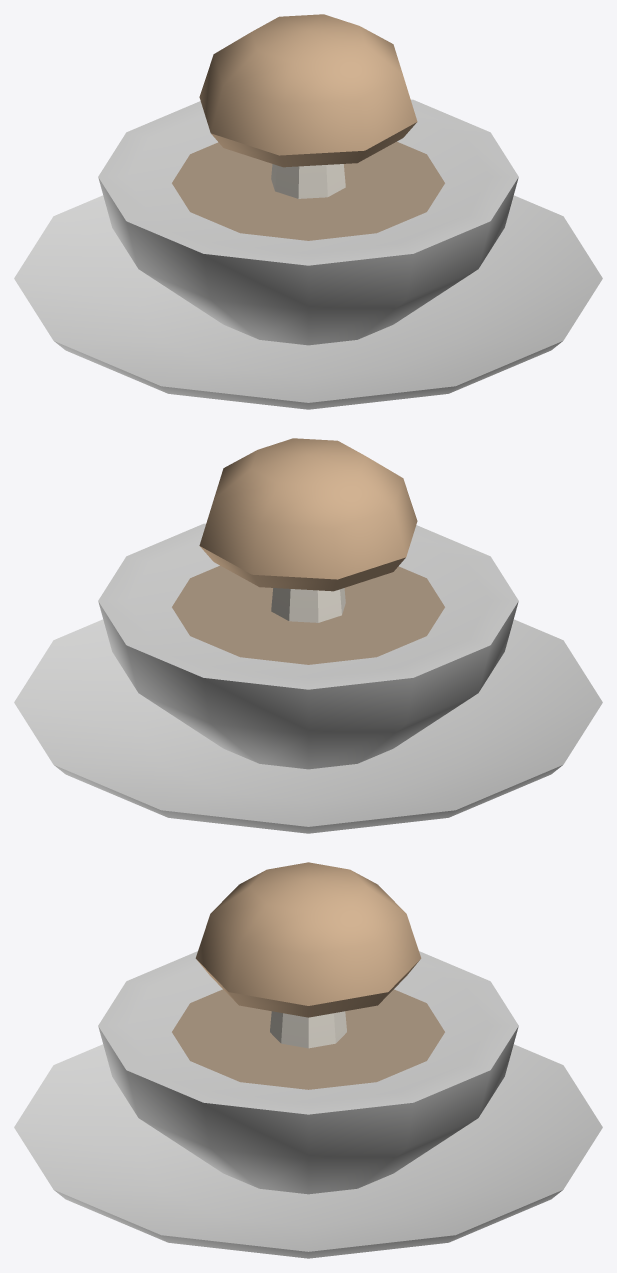
The model's file is kr_icon_soup_mushroom.glb.
3 renders of one model, top to bottom at view 1: azimuth 30°, elevation 25°; view 2: azimuth 150°, elevation 25°; view 3: azimuth 270°, elevation 25°, orthographic.
Visible parts, largest first — view 1: vc_m0_r2, vc_m0_r6; view 2: vc_m0_r2, vc_m0_r6; view 3: vc_m0_r2, vc_m0_r6.
Boxes of the visible parts, bbox=[...] form: vc_m0_r2: bbox=[14, 99, 602, 409]; vc_m0_r6: bbox=[199, 14, 417, 198]; vc_m0_r2: bbox=[14, 523, 602, 833]; vc_m0_r6: bbox=[199, 438, 417, 622]; vc_m0_r2: bbox=[14, 951, 602, 1258]; vc_m0_r6: bbox=[195, 862, 421, 1048].
Size of the model in its own units: 0.42 by 0.2346 by 0.42.
